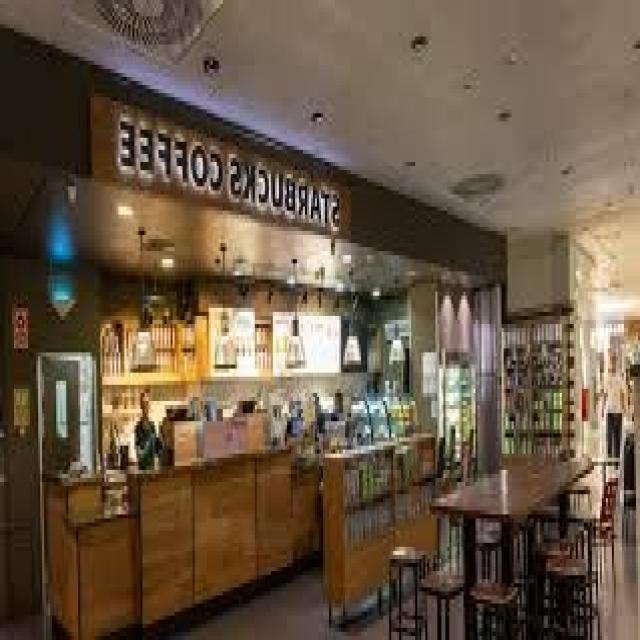starbucks: (102, 118, 346, 243)
